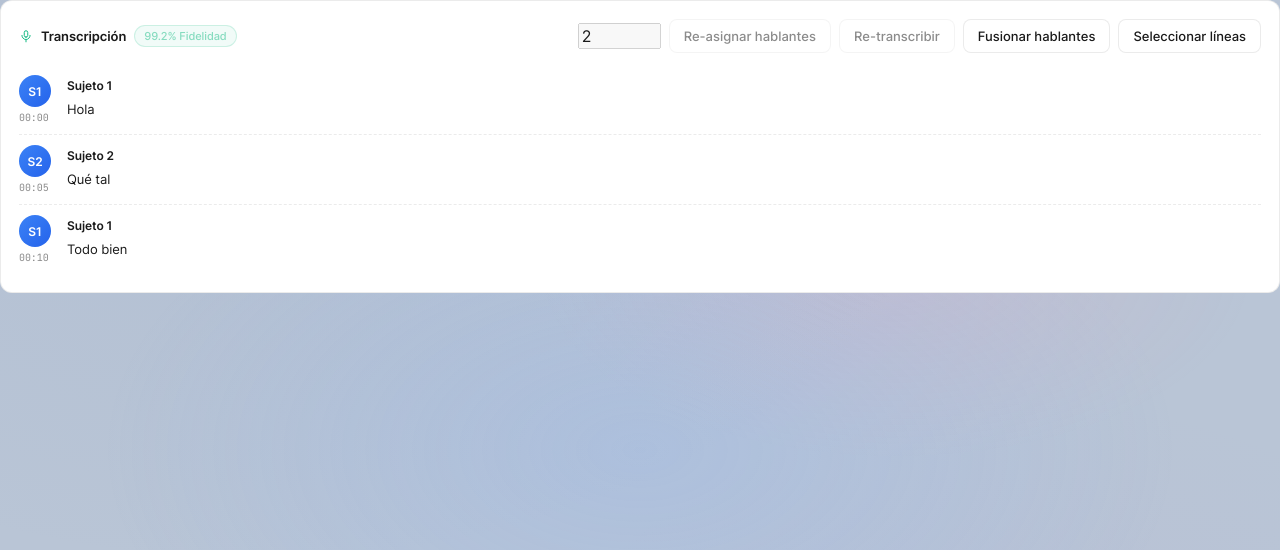
Test: TranscriptTab — select all lines of a speaker › selects every line belonging to the chosen speaker and leaves the others untouched
# Enter selection mode.
Click the button "Seleccionar líneas" at (1190, 36), box x1=1118 y1=19 x2=1261 y2=53
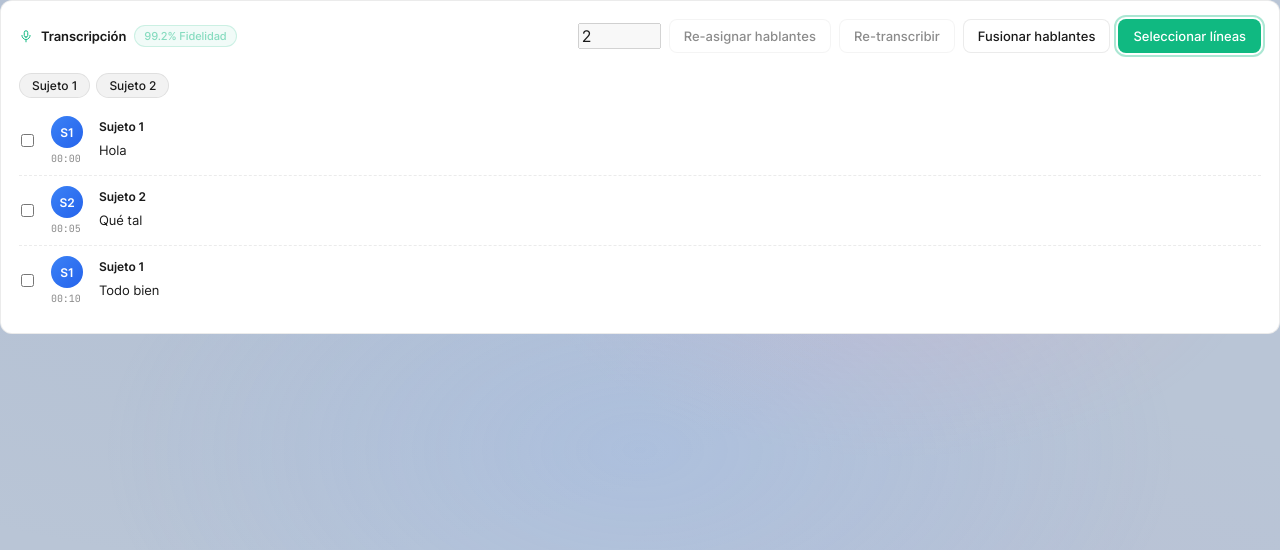
Expected: the checkbox named "Select line 1" is not checked, x1=21 y1=133 x2=34 y2=148
Expected: the checkbox named "Select line 2" is not checked, x1=21 y1=203 x2=34 y2=218
Expected: the checkbox named "Select line 3" is not checked, x1=21 y1=273 x2=34 y2=288
# Click the select-all shortcut for p1 (speakerLabel "Sujeto 1").
Click the button "Sujeto 1" at (55, 86), box x1=19 y1=73 x2=90 y2=98
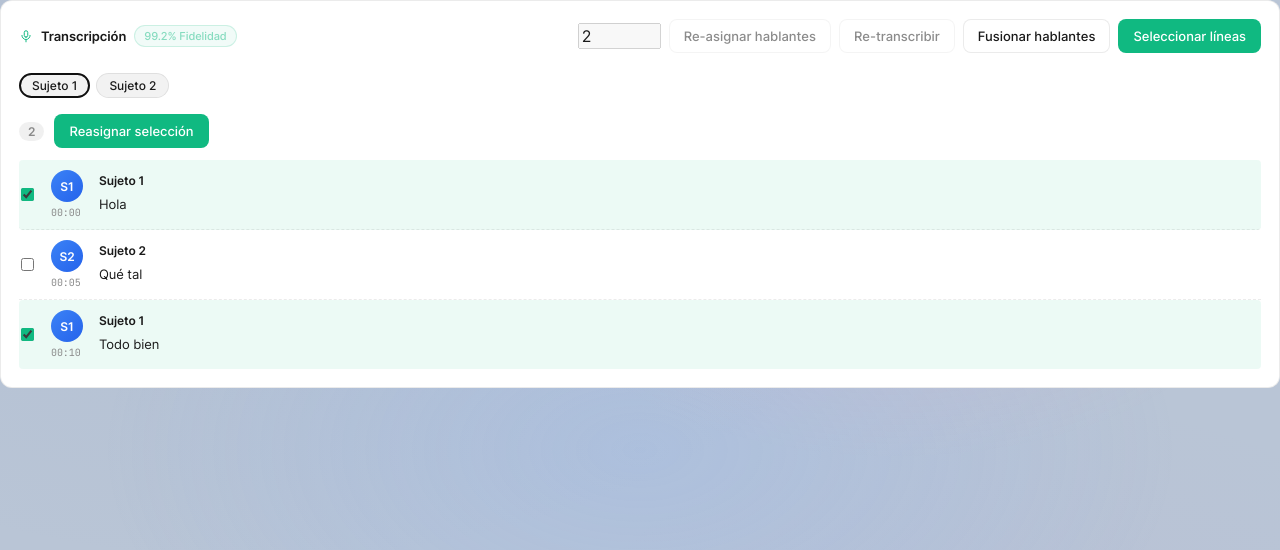
Expected: the checkbox named "Select line 2" is not checked, x1=21 y1=257 x2=34 y2=272
Expected: the checkbox named "Select line 1" is checked, x1=21 y1=187 x2=34 y2=202
Expected: the checkbox named "Select line 3" is checked, x1=21 y1=327 x2=34 y2=342
